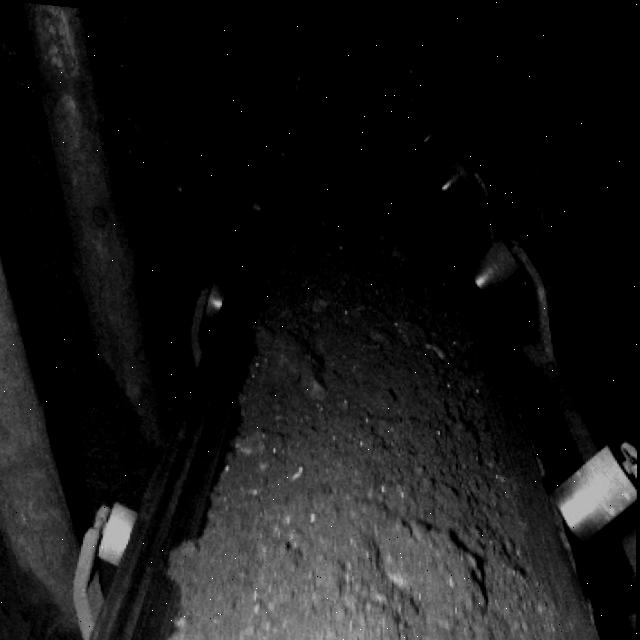large_sized_coal: (374, 508, 490, 604), (255, 310, 326, 395)
